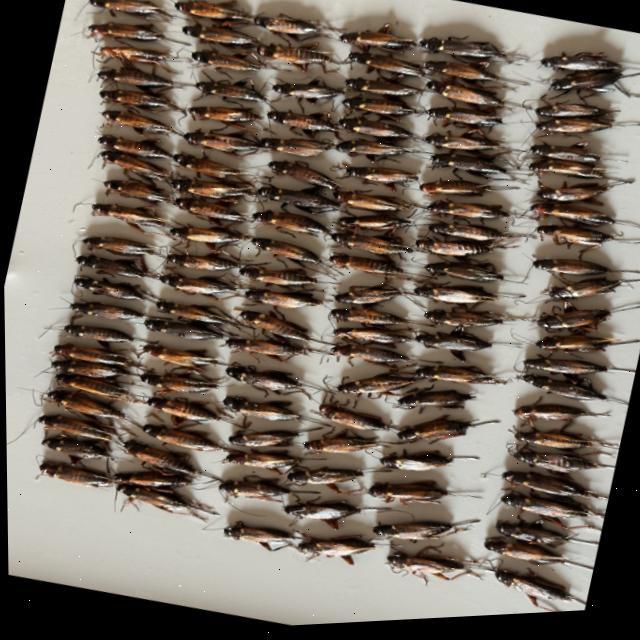egg: (122, 440, 220, 481), (236, 311, 334, 348), (499, 475, 606, 506), (115, 484, 216, 516), (225, 366, 334, 395), (225, 366, 311, 402), (530, 206, 640, 234), (430, 157, 531, 187), (384, 551, 475, 583), (425, 84, 529, 112), (418, 41, 527, 67), (224, 338, 333, 364), (499, 497, 602, 524), (423, 64, 528, 90), (493, 525, 597, 551), (54, 373, 144, 403), (141, 424, 234, 453), (533, 309, 640, 334), (175, 154, 257, 185), (397, 420, 498, 445), (123, 440, 196, 474), (510, 453, 611, 477), (493, 574, 571, 605), (256, 188, 340, 216), (93, 46, 176, 74), (87, 22, 188, 45), (99, 90, 184, 117), (45, 390, 123, 419), (519, 379, 605, 405), (550, 77, 639, 102), (481, 541, 563, 568), (338, 119, 422, 145), (239, 312, 309, 343), (370, 523, 478, 543), (90, 203, 167, 231), (412, 288, 525, 307), (544, 284, 640, 306), (90, 203, 168, 230), (282, 503, 387, 523), (267, 163, 339, 192), (385, 556, 462, 583), (75, 254, 158, 279), (183, 132, 266, 157), (546, 284, 640, 306), (378, 453, 476, 474), (53, 343, 138, 367), (100, 151, 170, 180), (425, 84, 503, 110), (238, 268, 339, 288), (530, 207, 614, 231), (97, 69, 193, 90), (283, 469, 389, 488), (528, 162, 615, 185), (155, 301, 235, 326), (535, 120, 640, 139), (36, 414, 112, 440), (174, 199, 247, 226), (529, 147, 622, 168), (38, 461, 113, 487), (183, 25, 258, 51), (224, 367, 299, 393), (535, 230, 619, 253), (191, 51, 283, 72), (251, 212, 328, 237), (522, 362, 634, 379), (428, 226, 528, 245), (79, 236, 165, 258), (513, 436, 618, 454), (302, 432, 384, 455), (396, 420, 470, 445), (222, 398, 299, 422), (250, 239, 321, 265), (511, 408, 608, 427), (413, 368, 505, 388), (532, 263, 640, 280), (73, 275, 146, 300), (97, 135, 173, 159), (89, 0, 171, 22), (348, 55, 423, 79), (145, 397, 217, 422), (295, 539, 373, 562), (318, 407, 387, 433), (533, 340, 638, 357), (142, 319, 222, 341), (329, 236, 412, 257), (328, 257, 407, 279), (423, 313, 525, 330), (370, 525, 465, 543), (142, 344, 215, 367), (50, 359, 138, 378), (168, 180, 256, 199), (332, 193, 415, 213), (257, 46, 336, 67), (366, 484, 445, 505), (222, 523, 291, 547), (340, 33, 415, 55), (75, 255, 146, 278), (253, 16, 327, 38), (342, 98, 423, 118), (101, 111, 174, 133), (159, 275, 235, 296), (335, 376, 411, 397), (73, 276, 142, 299), (102, 180, 168, 204), (415, 333, 490, 354), (40, 435, 108, 458), (173, 155, 241, 178), (194, 81, 265, 103), (175, 1, 253, 21), (267, 113, 345, 133), (424, 265, 502, 285), (335, 142, 432, 158), (169, 227, 246, 247), (225, 340, 310, 358), (412, 289, 496, 307), (88, 22, 167, 41), (395, 393, 474, 412), (418, 184, 518, 199), (100, 46, 188, 63), (536, 188, 619, 206), (217, 479, 288, 500), (244, 291, 322, 310), (330, 347, 408, 366), (338, 120, 412, 140), (540, 58, 622, 76), (415, 243, 507, 259), (238, 268, 315, 287), (139, 374, 216, 393), (427, 204, 508, 222), (191, 51, 260, 72), (426, 111, 502, 130), (285, 469, 361, 488), (69, 301, 141, 321), (179, 277, 239, 301), (192, 51, 260, 72), (430, 157, 505, 176), (342, 99, 416, 118), (272, 81, 342, 101), (536, 315, 609, 334), (345, 80, 422, 98), (221, 452, 298, 470), (333, 330, 409, 348), (333, 287, 401, 307), (82, 236, 153, 255), (328, 311, 407, 328), (431, 153, 508, 170), (260, 140, 332, 158), (423, 137, 499, 154), (414, 243, 494, 259), (532, 264, 611, 280), (89, 0, 163, 17), (335, 142, 411, 158), (113, 471, 189, 487), (534, 108, 614, 123), (62, 324, 132, 341), (167, 254, 237, 271), (336, 217, 410, 233), (346, 170, 416, 186), (227, 432, 297, 448), (187, 108, 260, 123), (419, 184, 489, 199), (124, 222, 175, 241), (5, 417, 34, 444), (205, 208, 243, 225), (525, 599, 558, 618), (187, 475, 221, 491), (324, 486, 364, 497), (538, 520, 568, 534), (213, 199, 237, 216), (559, 530, 600, 537), (490, 280, 524, 288), (603, 401, 627, 412), (486, 346, 522, 353), (611, 239, 638, 248), (319, 521, 337, 532), (445, 497, 481, 502), (256, 543, 271, 552), (292, 65, 306, 74), (322, 68, 337, 76), (132, 127, 143, 136), (621, 244, 640, 248), (179, 288, 190, 293), (287, 24, 294, 31), (517, 536, 530, 539), (66, 450, 75, 454), (559, 167, 565, 172), (521, 532, 528, 534), (524, 280, 527, 283)
